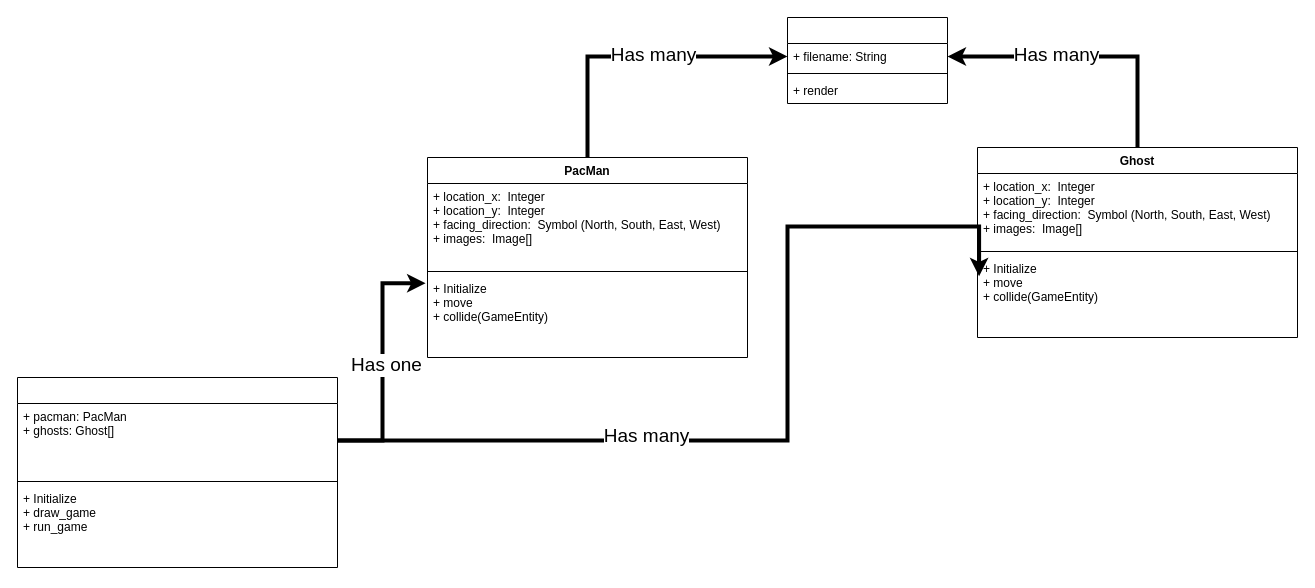
This 1315x588 diagram has some shape labels left out. The shapes that lost their labels are listed below. From the top down, each one's box as (x1, y1, x2, y2) in pixels, then its label:
(786, 16, 948, 104): Image
(16, 376, 338, 568): PacmanGame
